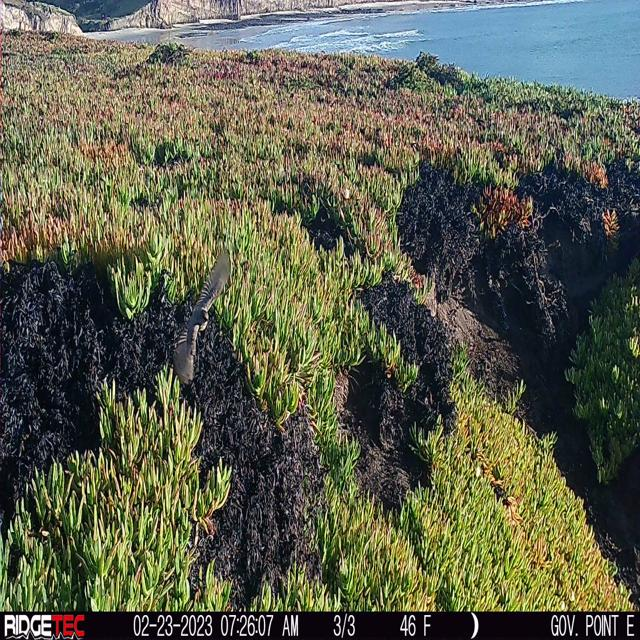bird: (183, 252, 232, 383)
